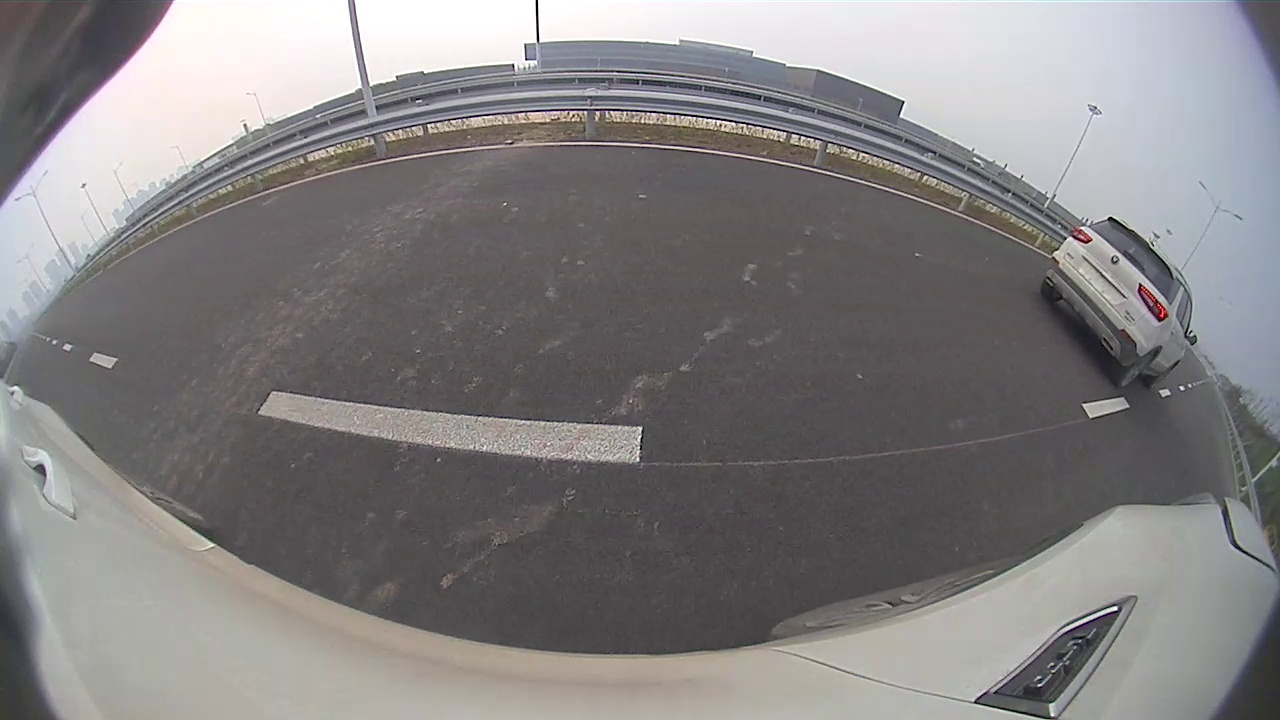car: (1041, 216, 1197, 388)
rear: (1121, 348, 1159, 391)
